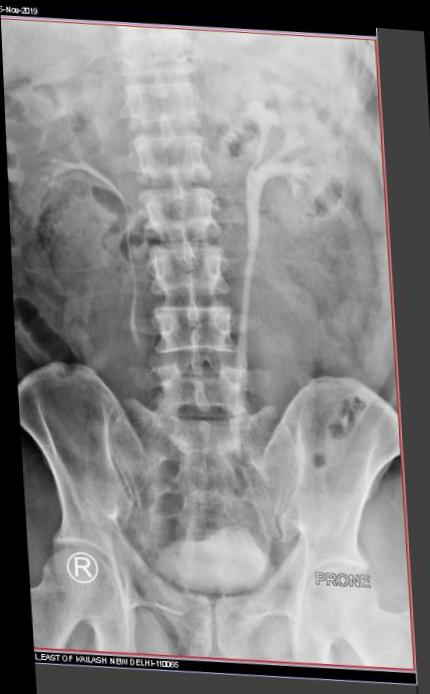bladder: (166, 542, 314, 633)
vertebrae: (146, 102, 246, 169)
